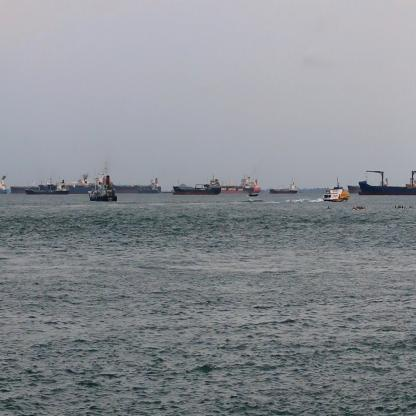Container Ship: (71, 172, 162, 194), (356, 168, 415, 196), (10, 172, 84, 194), (86, 159, 118, 203), (171, 173, 220, 196), (221, 170, 261, 194), (24, 176, 69, 195), (346, 176, 388, 192), (269, 175, 299, 195)
